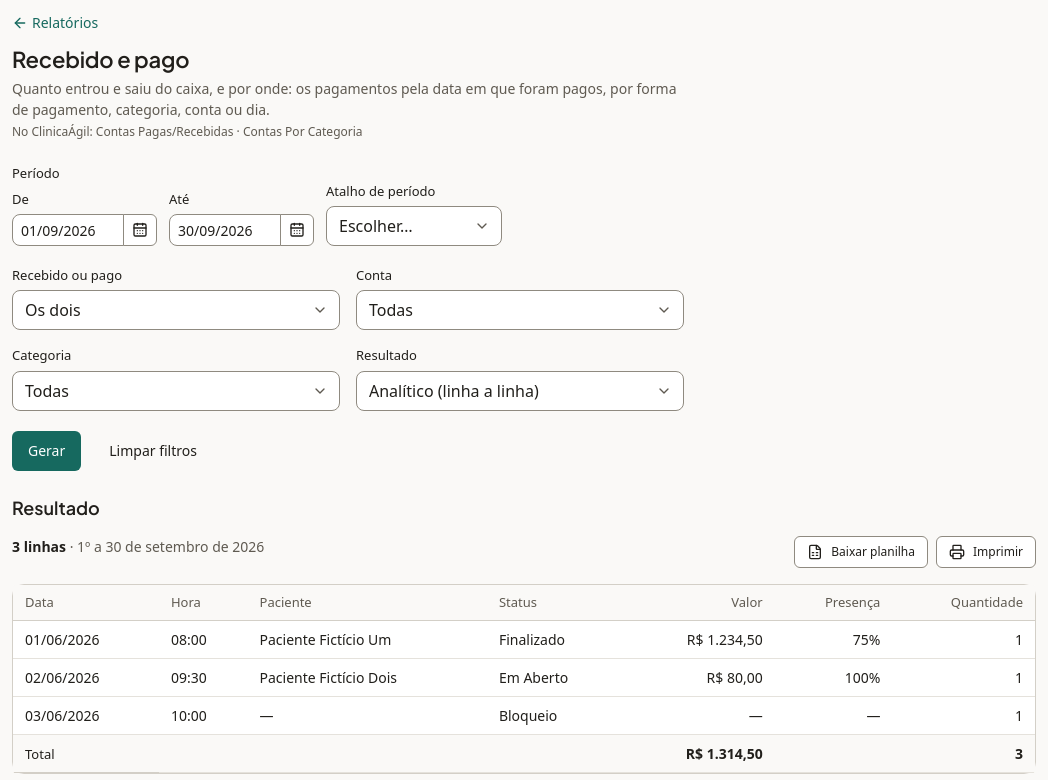
Test: Baixar planilha — o mesmo relatório da tela › deve dizer na tela quando o servidor recusa, sem baixar nada
This screenshot has width=1048, height=780.
Expected: the table is shown, x1=13 y1=585 x2=1035 y2=773
Click the button "Baixar planilha": (861, 552) x1=794 y1=536 x2=928 y2=568
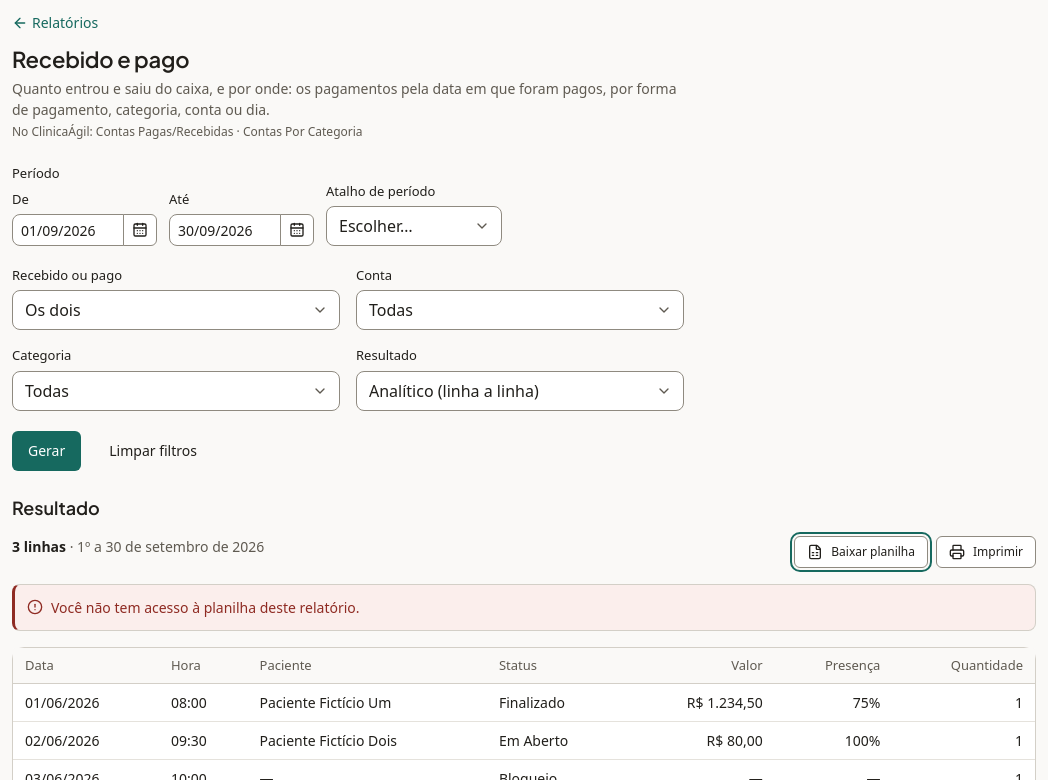
Expected: the message reads "Você não tem acesso à planilha deste relatório.", x1=51 y1=598 x2=360 y2=617
